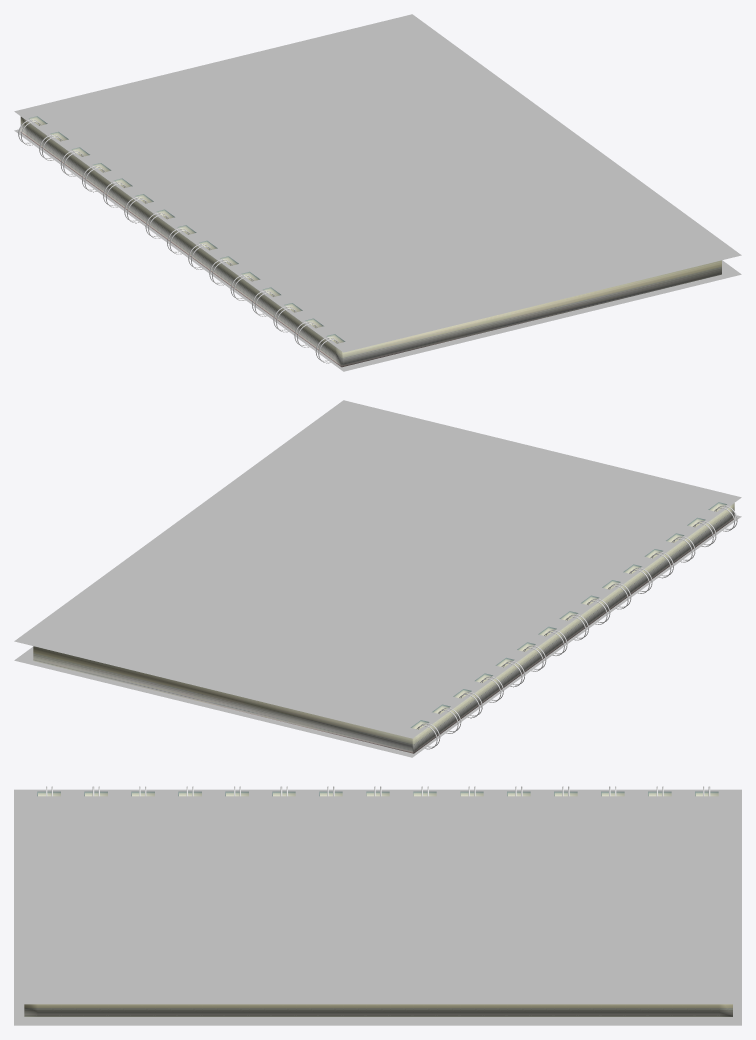
Rendered from notebook.fbx.
3 renders of one model, top to bottom at view 1: azimuth 30°, elevation 25°; view 2: azimuth 150°, elevation 25°; view 3: azimuth 270°, elevation 25°, orthographic. The views are drawn at different scales.
Parts seen in each view (by area): view 1: Top, Middle, Bottom; view 2: Top, Middle, Bottom; view 3: Top, Middle, Bottom.
Boxes of the visible parts, left/top/right/bottom form: Top: left=14, top=14, right=741, bottom=352; Middle: left=20, top=116, right=721, bottom=367; Bottom: left=14, top=129, right=741, bottom=371; Top: left=14, top=400, right=741, bottom=738; Middle: left=33, top=502, right=734, bottom=753; Bottom: left=14, top=515, right=741, bottom=757; Top: left=14, top=789, right=741, bottom=1004; Middle: left=24, top=791, right=732, bottom=1016; Bottom: left=14, top=1004, right=741, bottom=1025.
Bounding box in the file's own units: 150 × 8.27 × 210.
